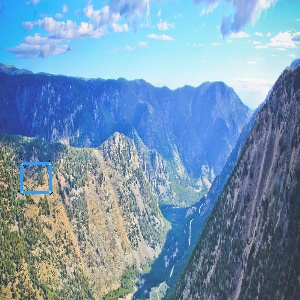square: (18, 161, 54, 195)
